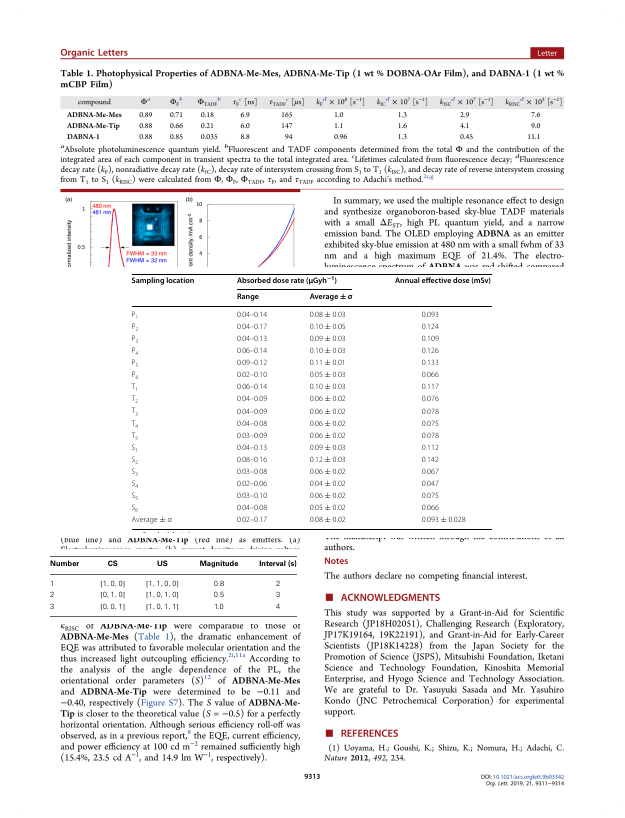borderless: (130, 272, 492, 529), (49, 554, 297, 616)
cell: (236, 275, 338, 286), (394, 276, 492, 286), (131, 276, 195, 286), (309, 292, 353, 302), (421, 516, 467, 525), (130, 516, 173, 525), (309, 310, 347, 320), (309, 322, 347, 332), (309, 431, 347, 441), (309, 443, 347, 453), (198, 560, 239, 569), (258, 560, 297, 569), (309, 335, 347, 344), (309, 347, 347, 356), (309, 359, 347, 368), (309, 371, 347, 380), (309, 383, 347, 392), (309, 395, 347, 404), (309, 407, 347, 416), (309, 419, 347, 428), (309, 456, 347, 465), (309, 468, 347, 477), (309, 480, 347, 489), (309, 492, 347, 501), (309, 504, 347, 513), (309, 516, 347, 525), (236, 310, 268, 320), (236, 322, 268, 332), (236, 431, 268, 441), (236, 443, 268, 453), (144, 579, 179, 588), (144, 602, 179, 611), (236, 335, 268, 344), (236, 347, 268, 356), (236, 359, 268, 368), (236, 371, 268, 380), (236, 383, 268, 392), (236, 395, 268, 404), (236, 407, 268, 416), (236, 419, 268, 428), (236, 456, 268, 465), (236, 468, 268, 477), (236, 480, 268, 489), (236, 492, 268, 501), (236, 504, 268, 513), (236, 516, 268, 525), (48, 560, 80, 569), (144, 591, 179, 599), (99, 579, 126, 588), (99, 602, 126, 611), (236, 292, 260, 302), (99, 591, 126, 599), (421, 310, 440, 320), (421, 322, 440, 332), (421, 431, 440, 441), (421, 443, 440, 453), (421, 335, 440, 344), (421, 347, 440, 356), (421, 359, 440, 368), (421, 371, 440, 380), (421, 383, 440, 392), (421, 395, 440, 404), (421, 407, 440, 416), (421, 419, 440, 428), (421, 456, 440, 465), (421, 468, 440, 477), (421, 480, 440, 489), (421, 492, 440, 501), (421, 504, 440, 513), (155, 560, 168, 569), (106, 560, 118, 569), (212, 579, 225, 587), (130, 383, 139, 394), (130, 395, 139, 406), (130, 407, 139, 418), (130, 419, 139, 430), (130, 431, 139, 442), (130, 443, 139, 454), (130, 492, 139, 503), (130, 504, 139, 515), (212, 591, 225, 598), (130, 456, 139, 466), (130, 468, 139, 478), (130, 480, 139, 490), (131, 310, 139, 321), (131, 322, 139, 333), (131, 371, 139, 382), (213, 602, 224, 610), (131, 335, 139, 345), (131, 347, 139, 357), (131, 359, 139, 369), (48, 579, 55, 587), (274, 579, 280, 587), (49, 602, 55, 610), (274, 602, 280, 610), (49, 591, 55, 598), (274, 591, 280, 598)
